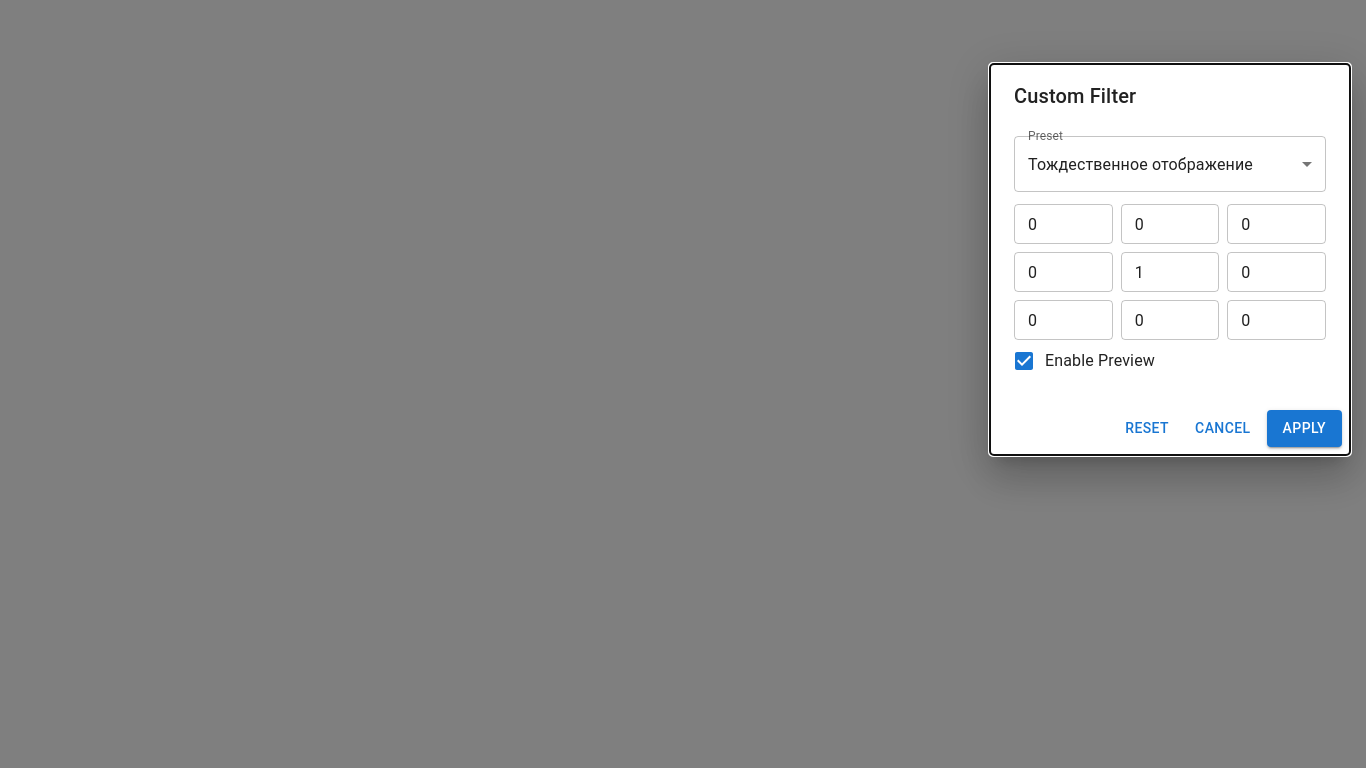
Test: CustomFilterDialog › resets kernel to selected preset values
The image size is (1366, 768).
Replace the text in the 1st number field with "42" at [1063, 224], box [1014, 204, 1113, 244]
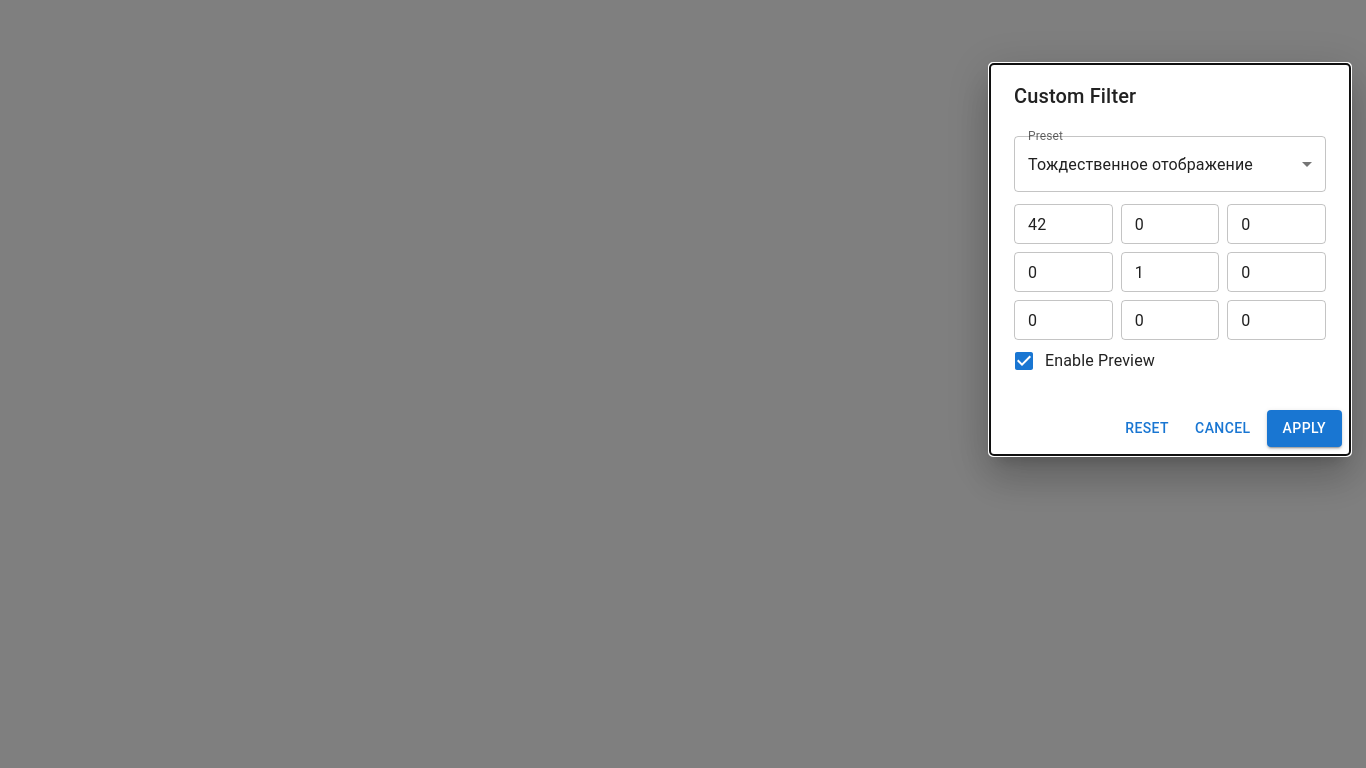
Click the button "Reset".
click(1147, 428)  # box [1115, 410, 1179, 446]
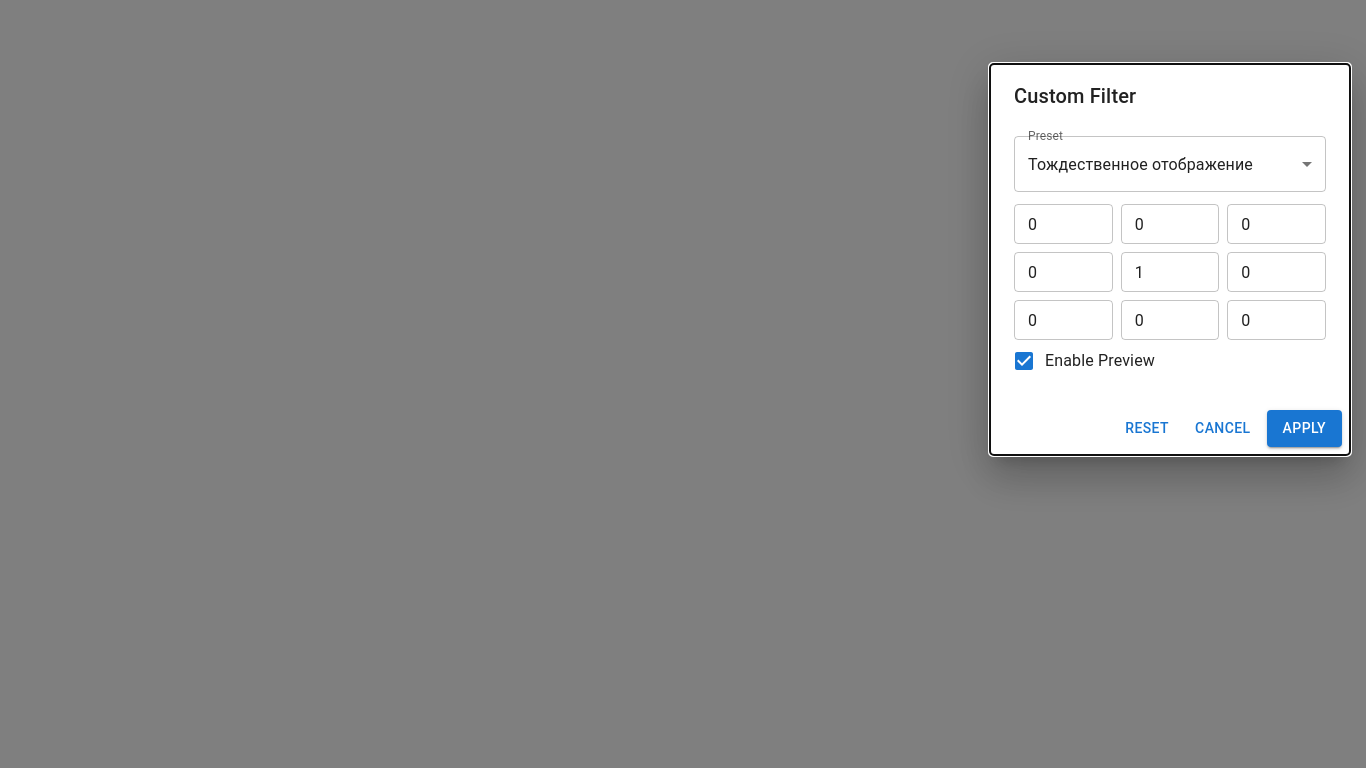
Result: the 1st number field holds "0" at [1014, 204, 1113, 244]
